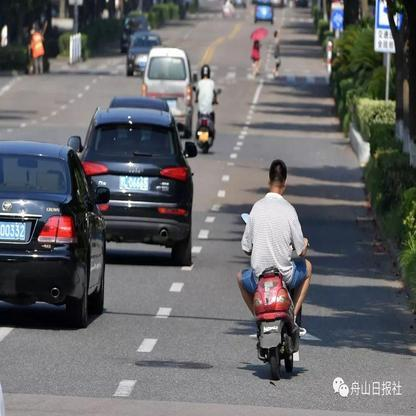target: (234, 159, 314, 382)
